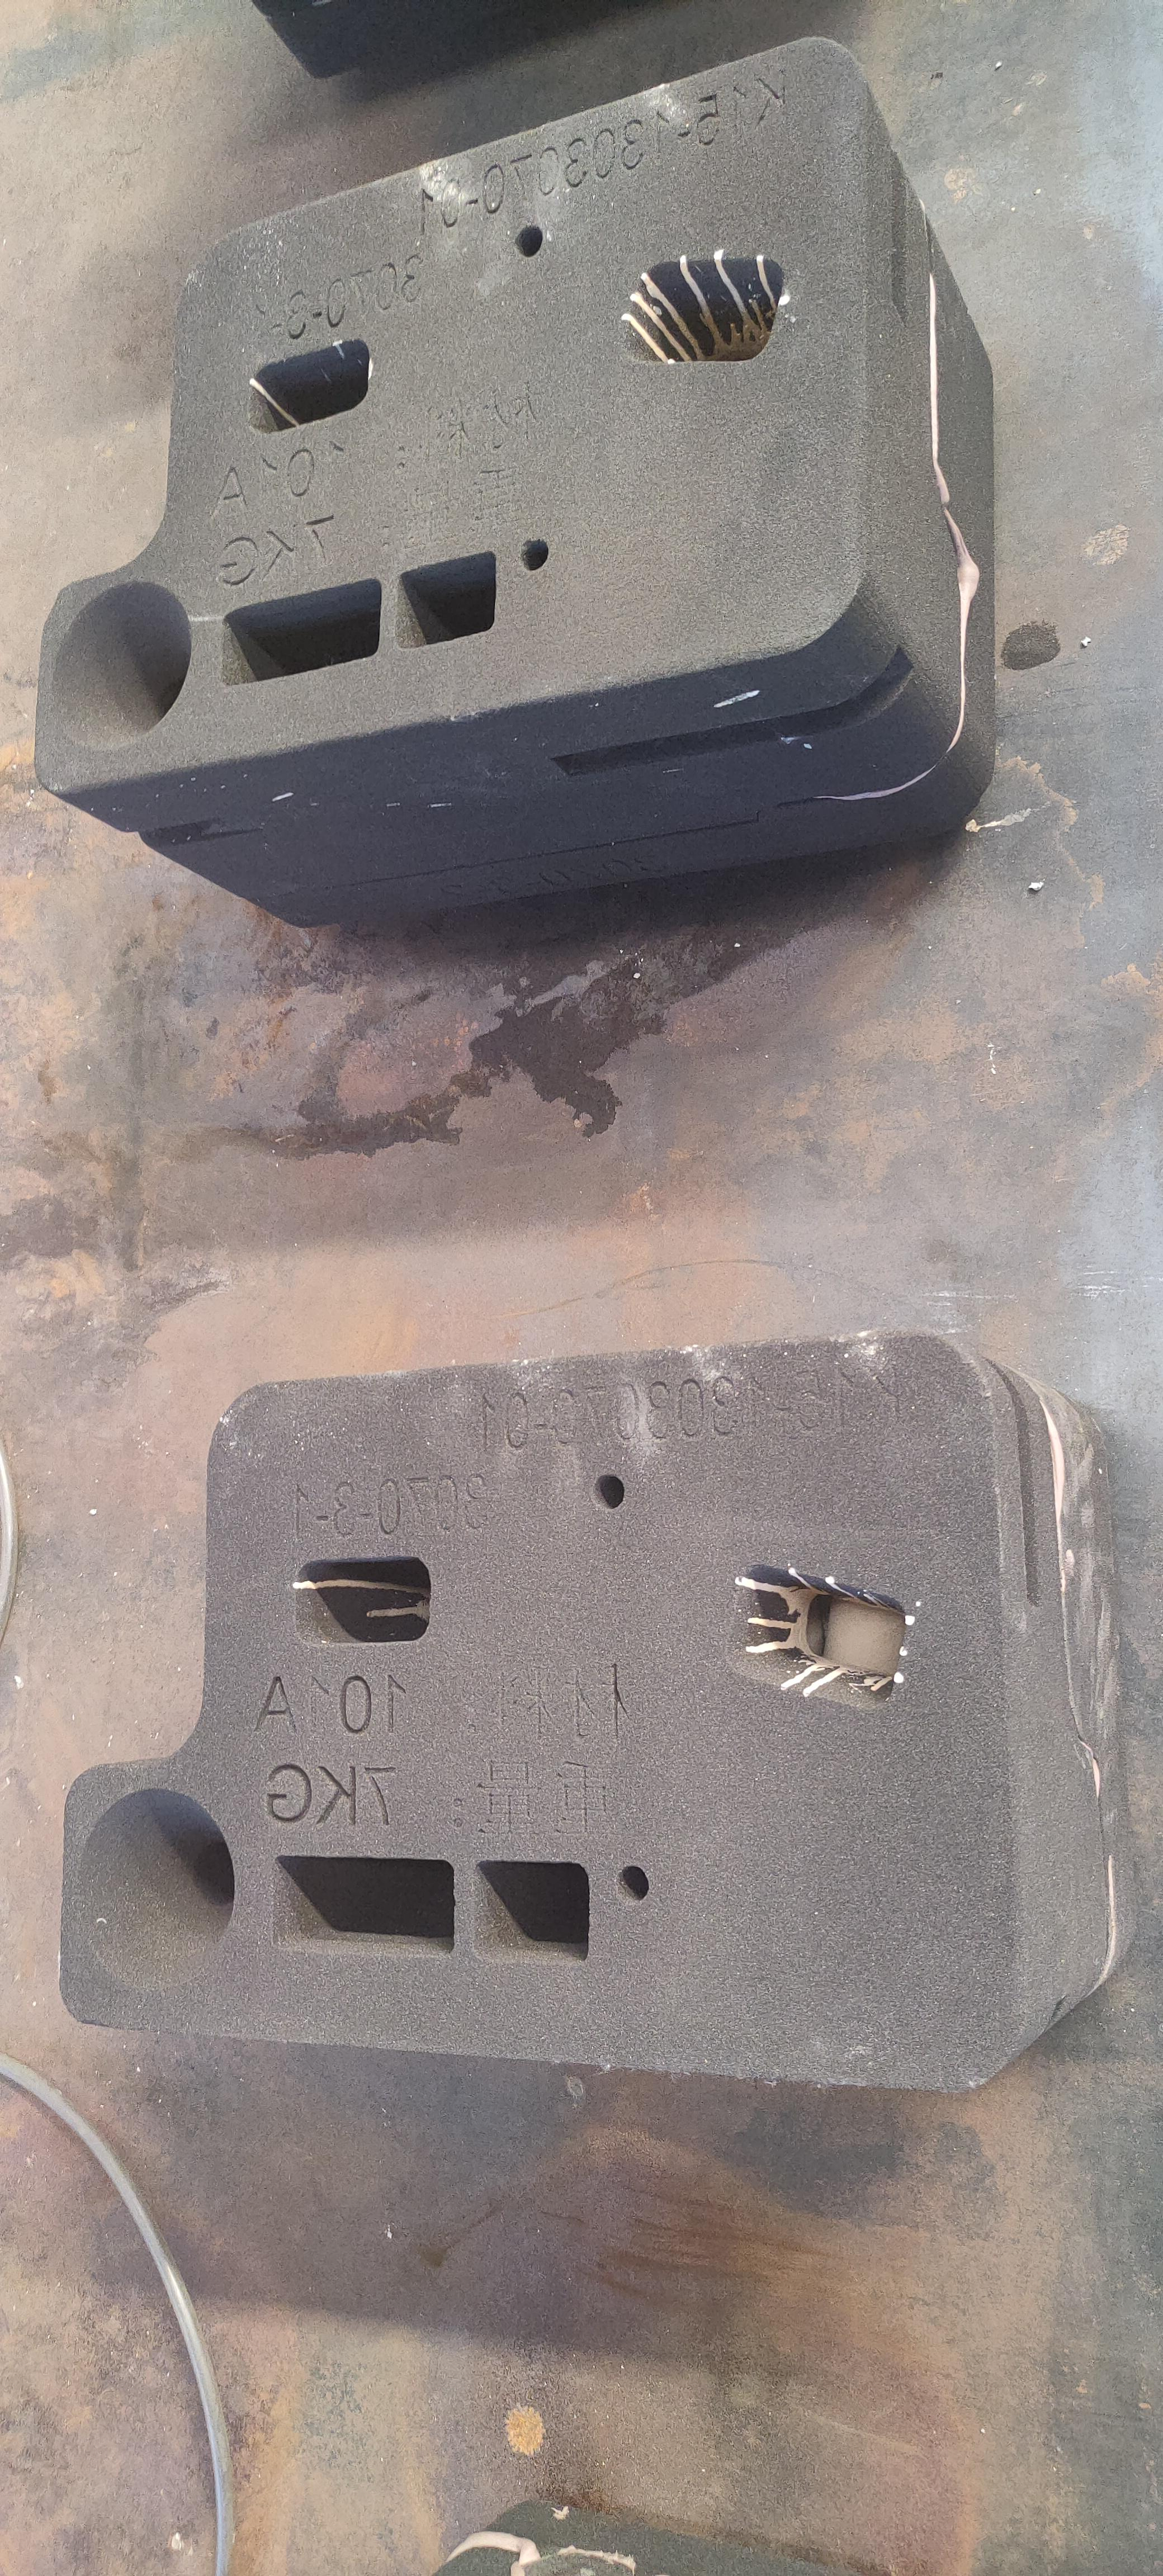pouring hole: (76, 1787, 237, 1990), (53, 580, 192, 751)
